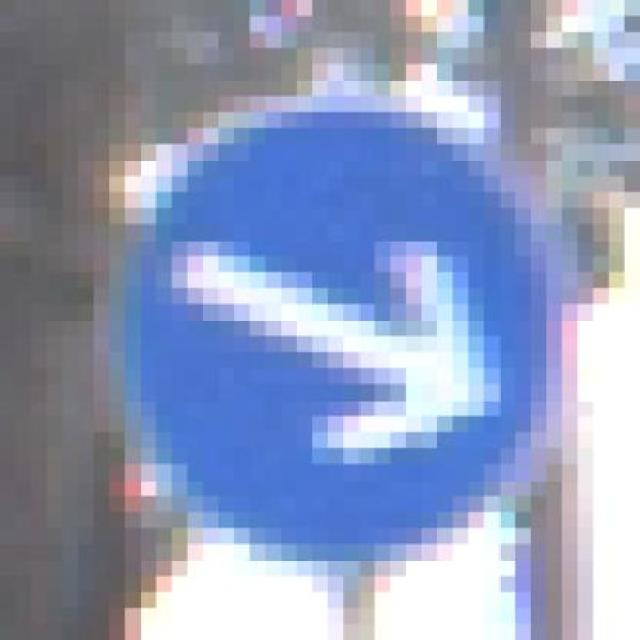Keep-Right: (108, 65, 578, 560)
